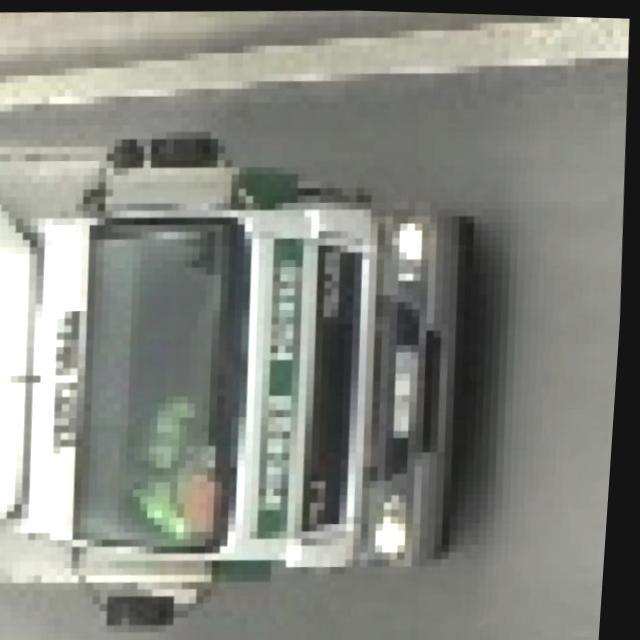truck: (0, 129, 523, 640)
